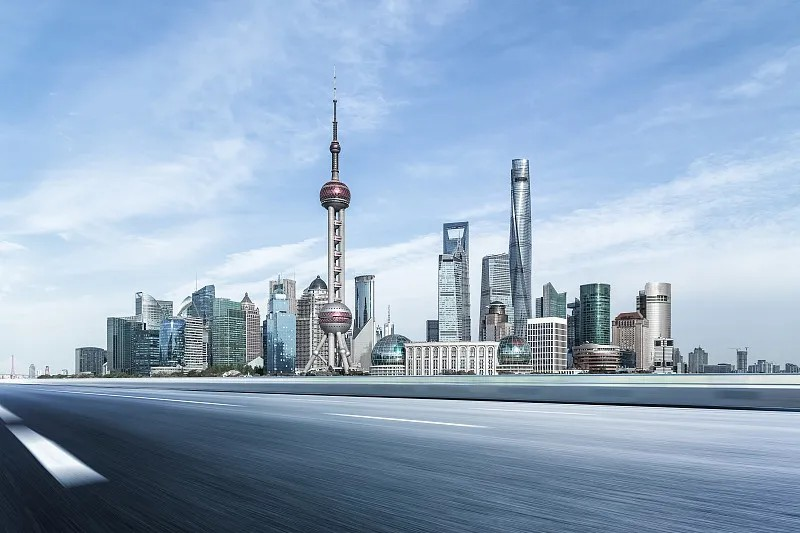Oriental: (305, 64, 352, 370)
